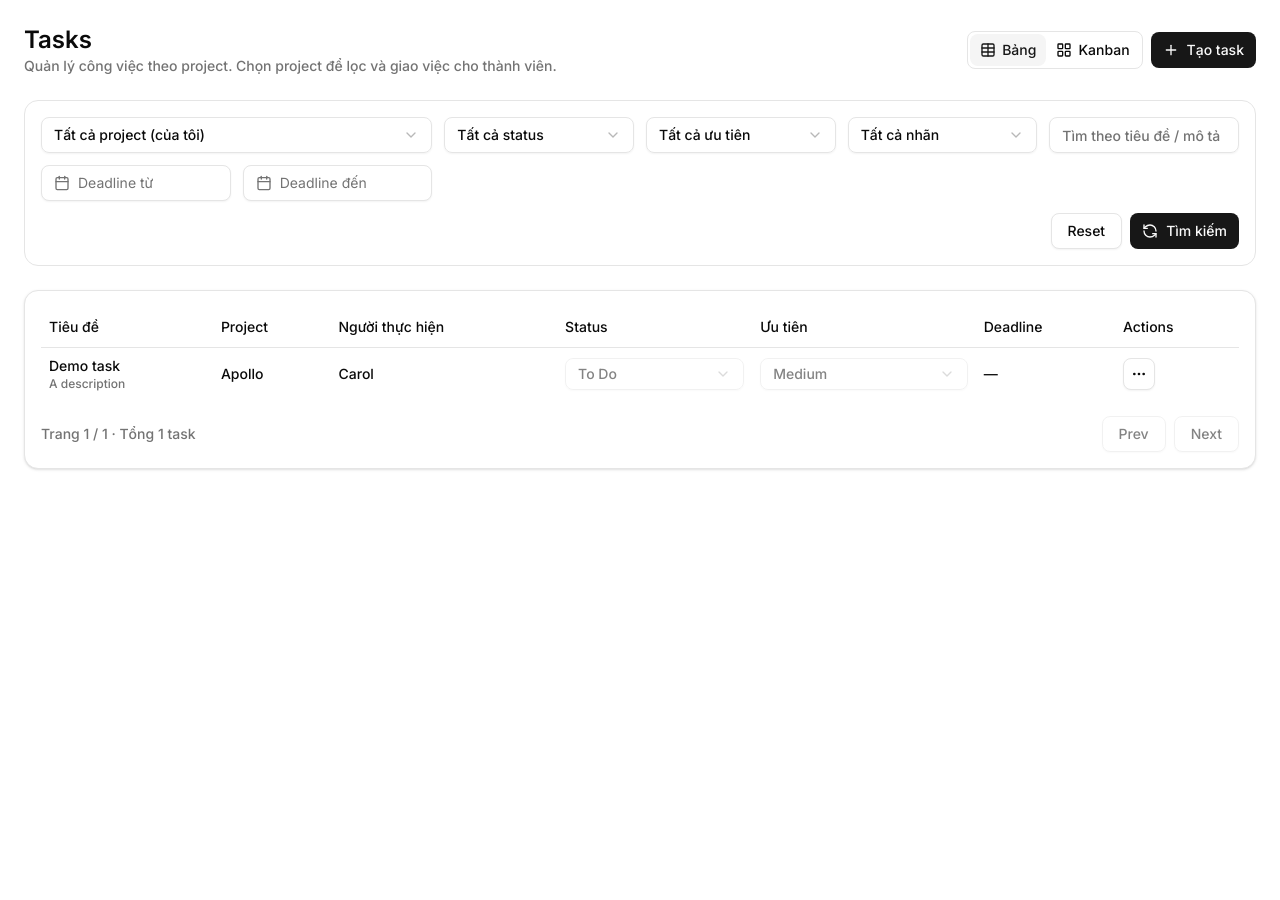
it: <Tasks /> › opens the comments dialog and loads comments from the row menu
This screenshot has width=1280, height=900.
expect the text "Demo task" is shown: met, box [49,356,120,374]
What coordinates should you click on to do the following:
click the button named "Task actions"
I would click on:
 (1139, 374)
Its box is [1123,358,1155,390].
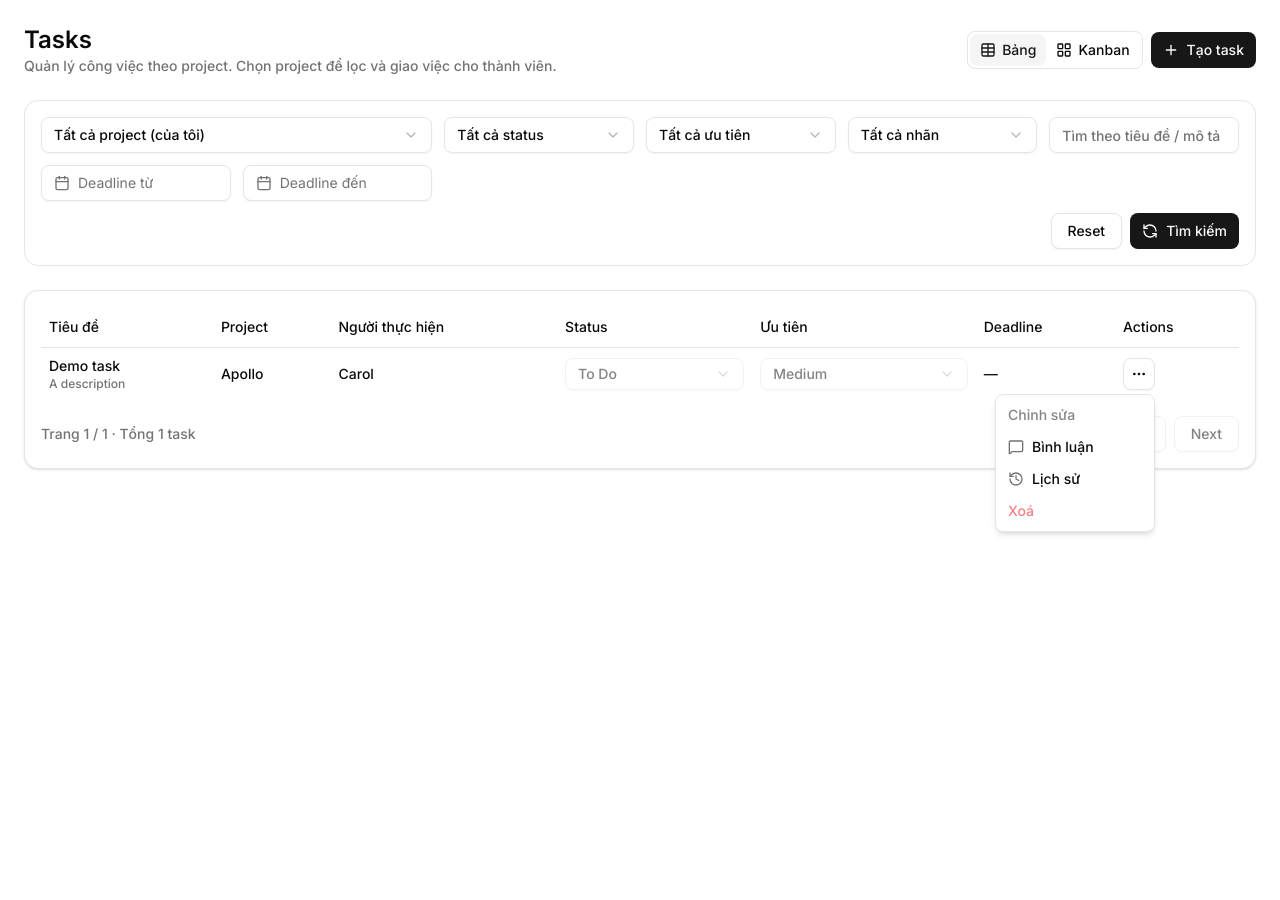
What coordinates should you click on to do the following:
click the menu item "Bình luận"
I would click on:
 (1051, 446)
Its box is [1008,438,1094,455].
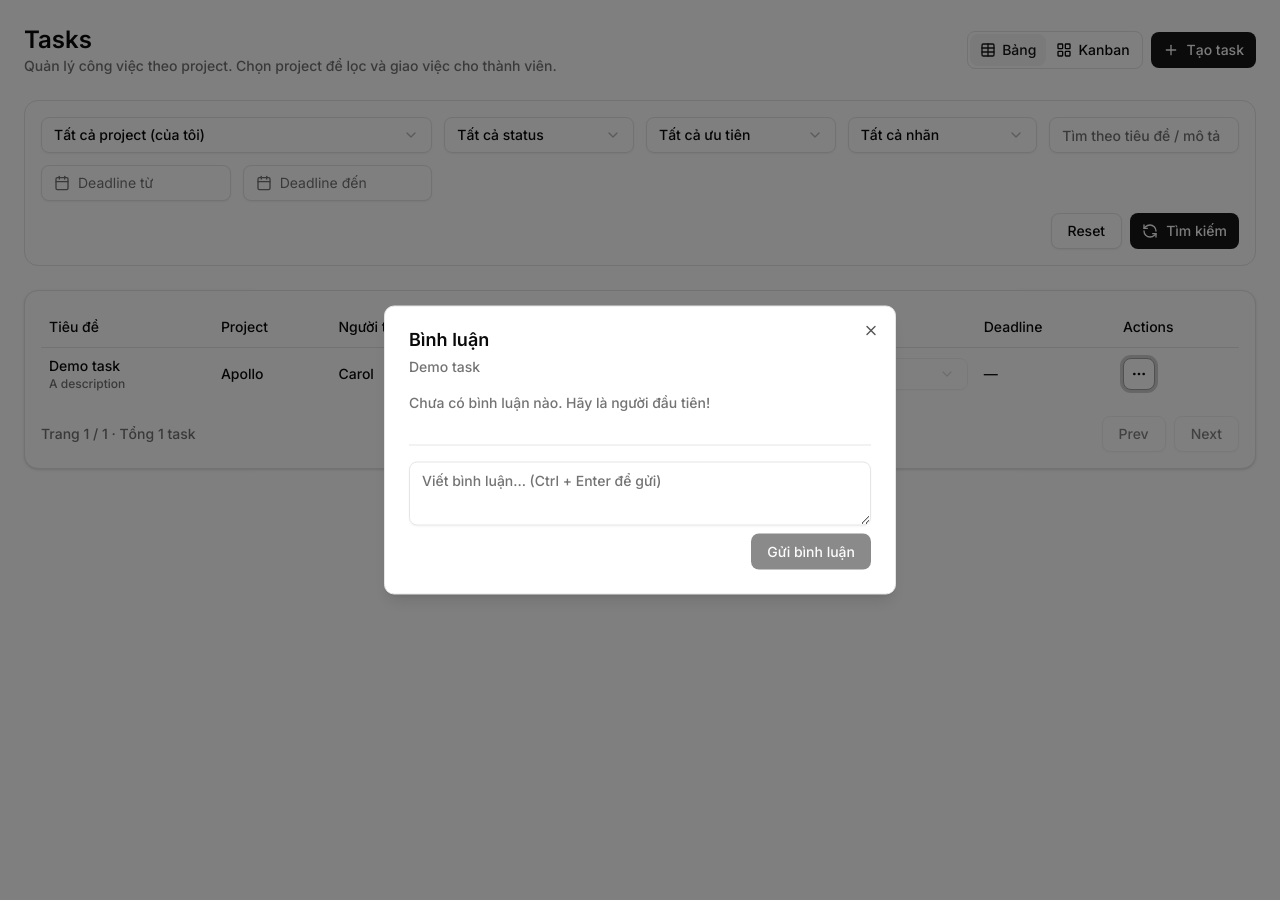
expect the heading "Bình luận" is shown: met, box [409,328,489,350]
